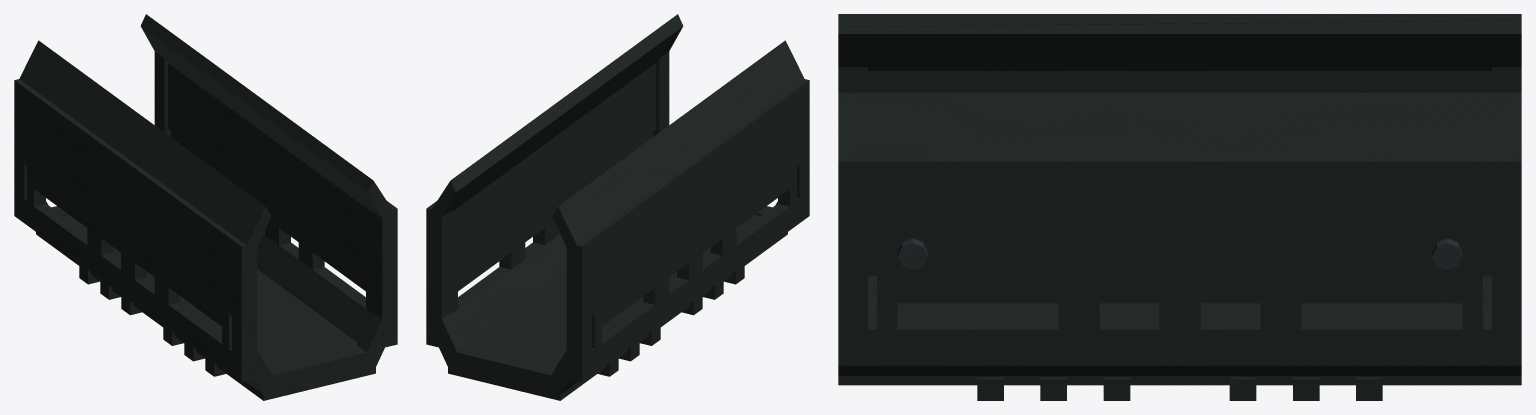
Rendered from ar_short.glb.
The picture shows the model from 3 angles, left to right: view 1: azimuth 30°, elevation 25°; view 2: azimuth 150°, elevation 25°; view 3: azimuth 270°, elevation 25°; orthographic projection. The views are drawn at different scales.
Visible parts, largest first — view 1: handguard__ar_short_LOD0_RAID_Secondary_Original_polymer, handguard__ar_short_LOD1_RAID_Secondary_Original_polymer; view 2: handguard__ar_short_LOD0_RAID_Secondary_Original_polymer, handguard__ar_short_LOD1_RAID_Secondary_Original_polymer; view 3: handguard__ar_short_LOD0_RAID_Secondary_Original_polymer, handguard__ar_short_LOD1_RAID_Secondary_Original_polymer, handguard__ar_short_LOD0_RAID_Secondary_Original_steel.
Boxes of the visible parts, <box> form: handguard__ar_short_LOD0_RAID_Secondary_Original_polymer: <box>14,14,397,400</box>; handguard__ar_short_LOD1_RAID_Secondary_Original_polymer: <box>14,22,397,400</box>; handguard__ar_short_LOD0_RAID_Secondary_Original_polymer: <box>426,14,809,400</box>; handguard__ar_short_LOD1_RAID_Secondary_Original_polymer: <box>426,27,806,400</box>; handguard__ar_short_LOD0_RAID_Secondary_Original_polymer: <box>838,14,1521,400</box>; handguard__ar_short_LOD1_RAID_Secondary_Original_polymer: <box>838,20,1521,400</box>; handguard__ar_short_LOD0_RAID_Secondary_Original_steel: <box>897,238,1462,269</box>.
Bounding box in the file's own units: 0.095 × 0.113 × 0.23.
2 materials, 2 textured.
